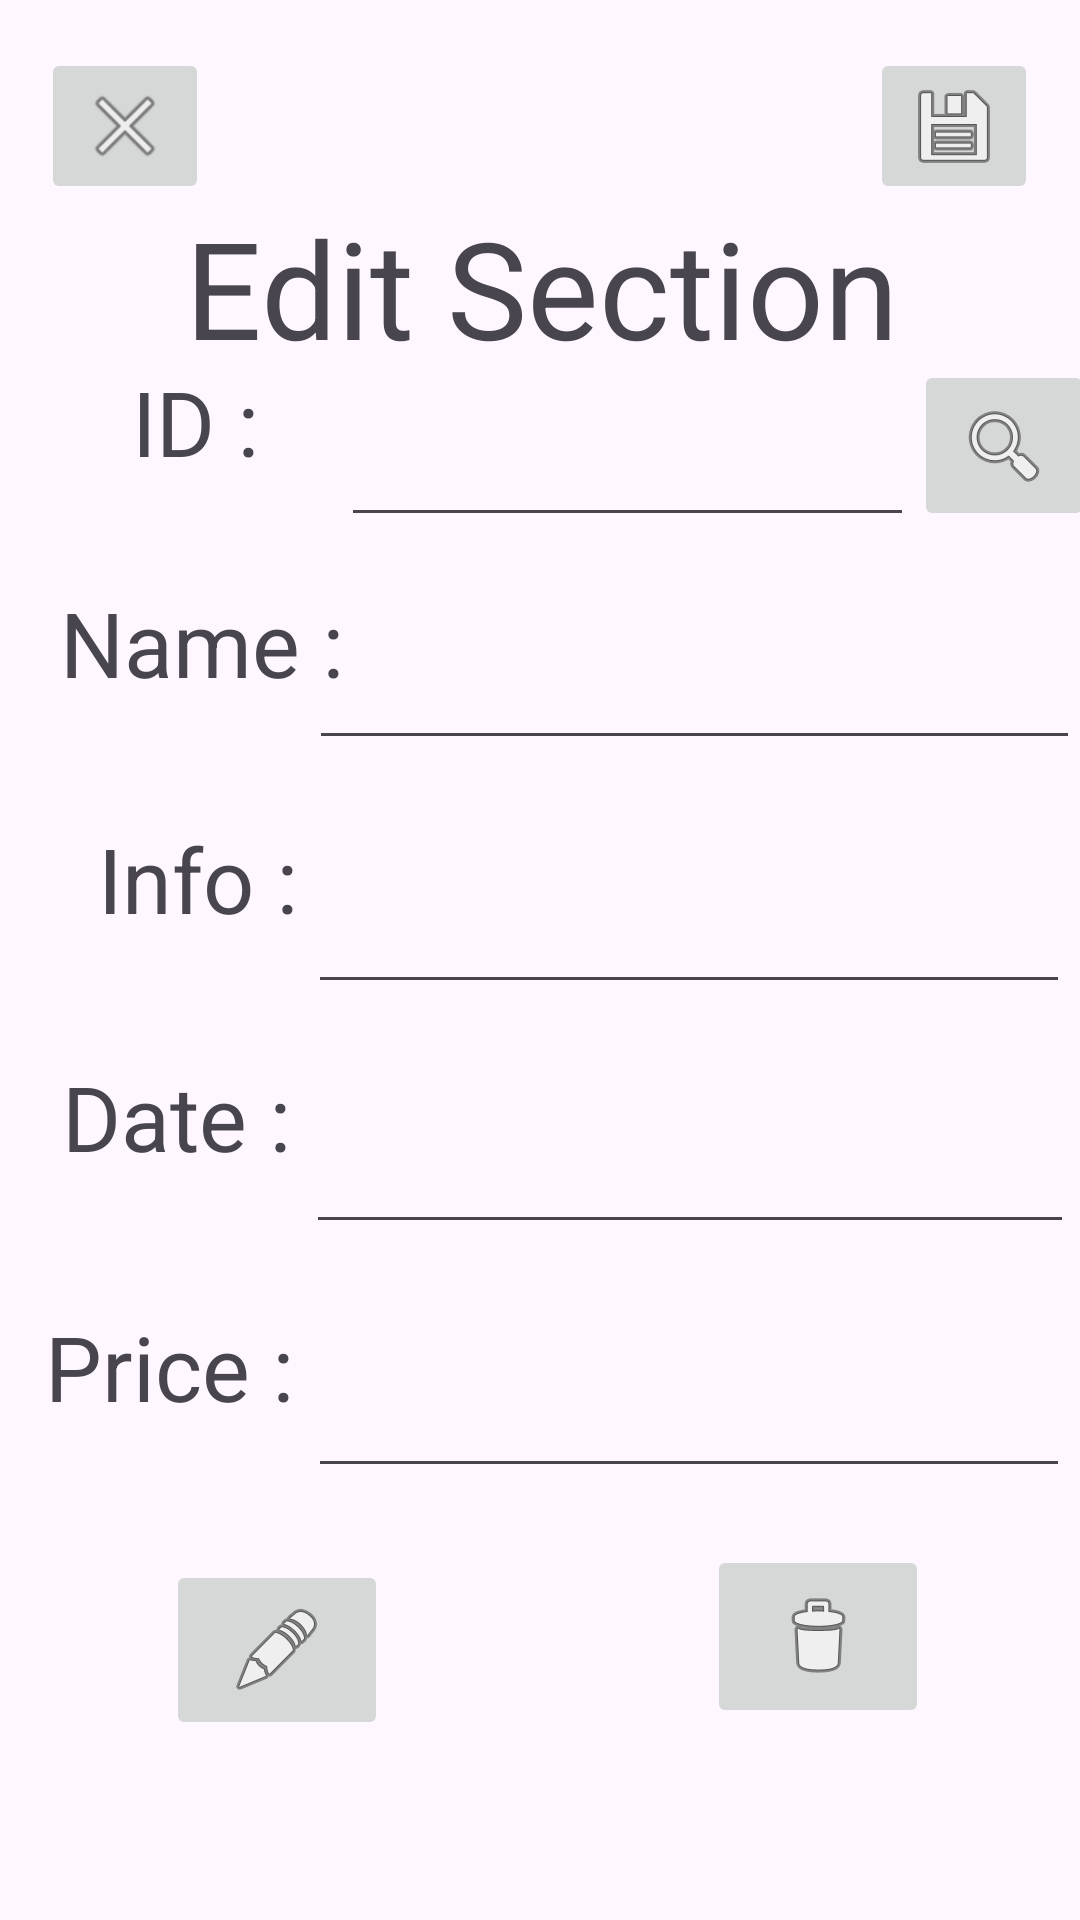

Icons on this 1080×1920 Android screen, each with the point to tap as (x=x, y=y):
close clear cancel: (x=125, y=126)
delete: (x=818, y=1636)
edit: (x=277, y=1650)
save: (x=954, y=126)
search: (x=1003, y=445)
